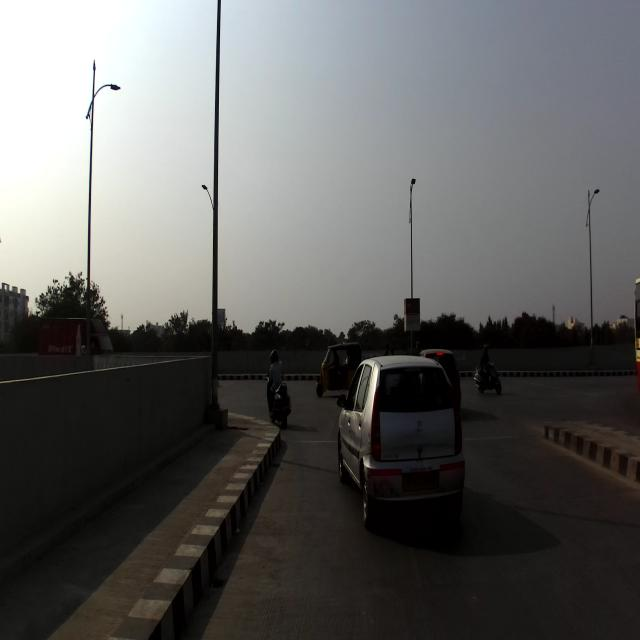car ahead at: (335, 351, 474, 528)
